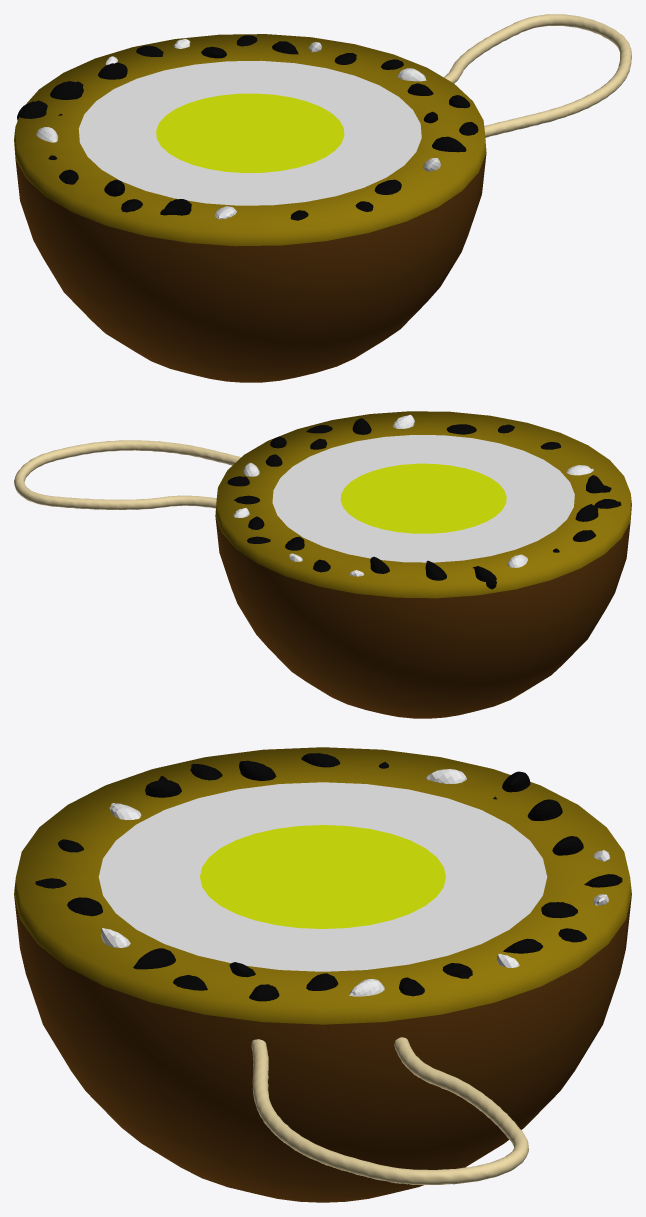
The model's file is Kleierbal 1.fbx.
3 renders of one model, top to bottom at view 1: azimuth 30°, elevation 25°; view 2: azimuth 150°, elevation 25°; view 3: azimuth 270°, elevation 25°, orthographic. The views are drawn at different scales.
Parts seen in each view (by area): view 1: Eierbal; view 2: Eierbal; view 3: Eierbal.
Boxes of the visible parts, bbox=[...] form: Eierbal: bbox=[14, 14, 631, 382]; Eierbal: bbox=[14, 411, 631, 718]; Eierbal: bbox=[14, 747, 631, 1202].
Bounding box in the file's own units: 300 × 112 × 200.
